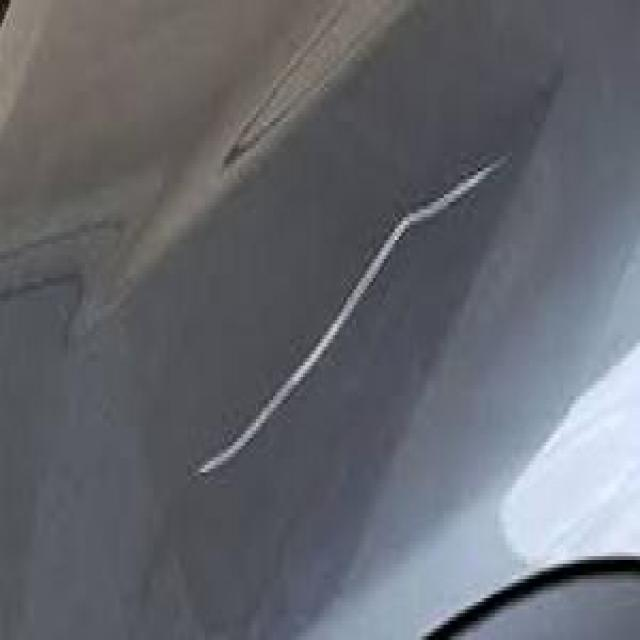scratch: (193, 140, 520, 490)
